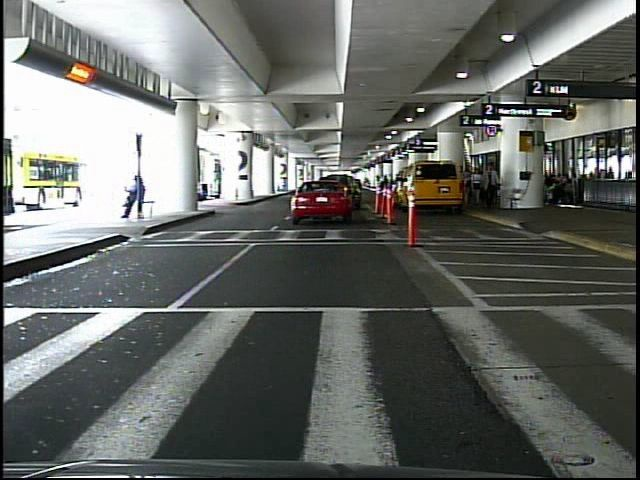person: (483, 163, 500, 209), (470, 166, 486, 210), (482, 169, 493, 207)
